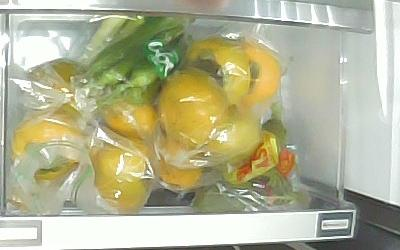persimmon_vinyl: (154, 68, 228, 148), (12, 112, 85, 183), (184, 37, 251, 104), (93, 138, 153, 212), (29, 60, 89, 120), (233, 45, 281, 103), (155, 138, 203, 187), (102, 97, 157, 138)
